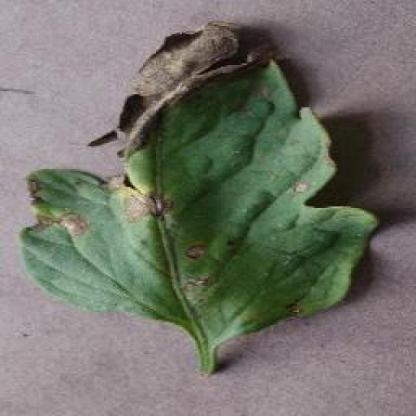Tomato_Blight: (20, 24, 380, 346)
